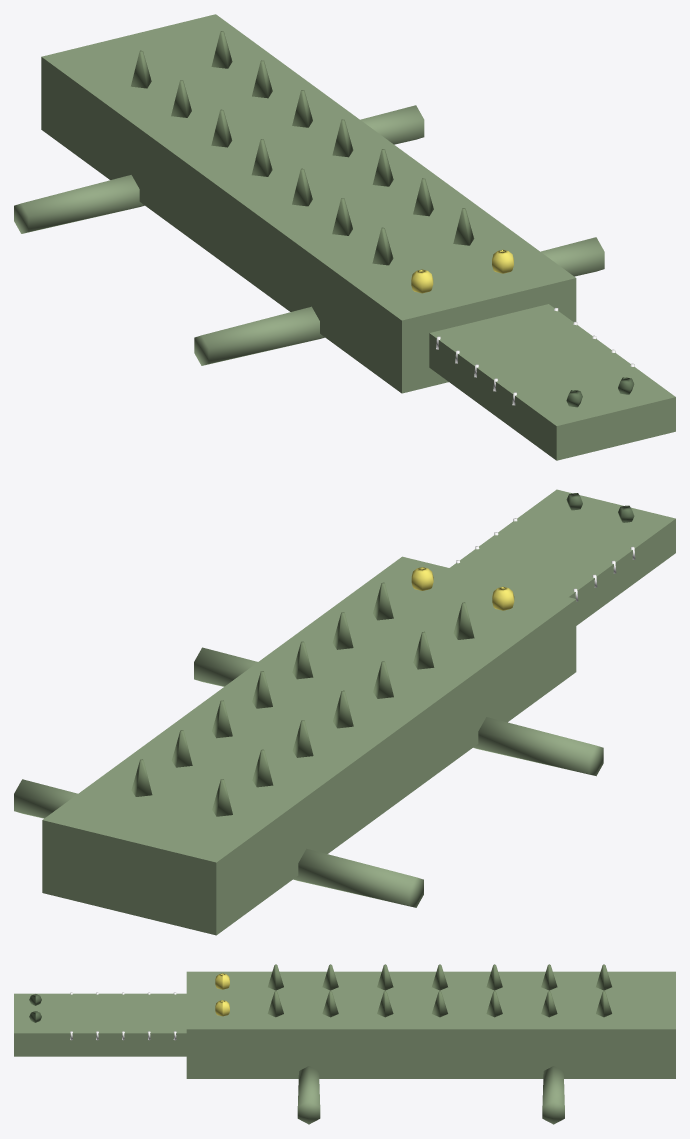
3 renders of one model, top to bottom at view 1: azimuth 30°, elevation 25°; view 2: azimuth 150°, elevation 25°; view 3: azimuth 270°, elevation 25°, orthographic. The views are drawn at different scales.
Parts seen in each view (by area): view 1: Generated3DMesh; view 2: Generated3DMesh; view 3: Generated3DMesh.
Part boxes in pixels (x1,y1,x2,y2): Generated3DMesh: (14, 14, 675, 460); Generated3DMesh: (14, 489, 675, 935); Generated3DMesh: (14, 964, 675, 1124).
Bounding box in the file's own units: 2.15 × 0.62 × 4.6.
